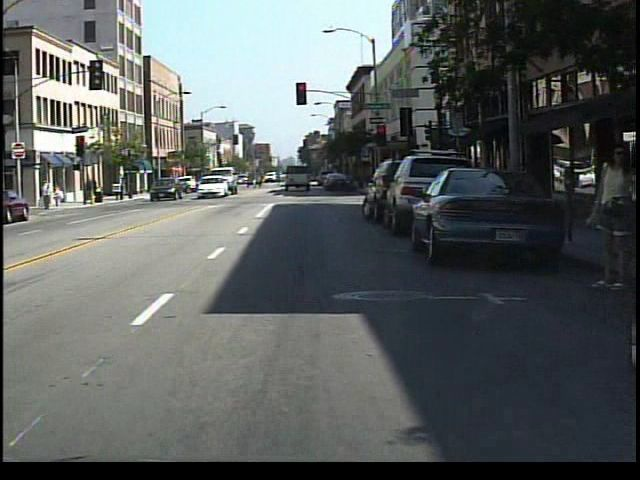person: (582, 139, 634, 300), (41, 179, 55, 213), (53, 180, 68, 209)
